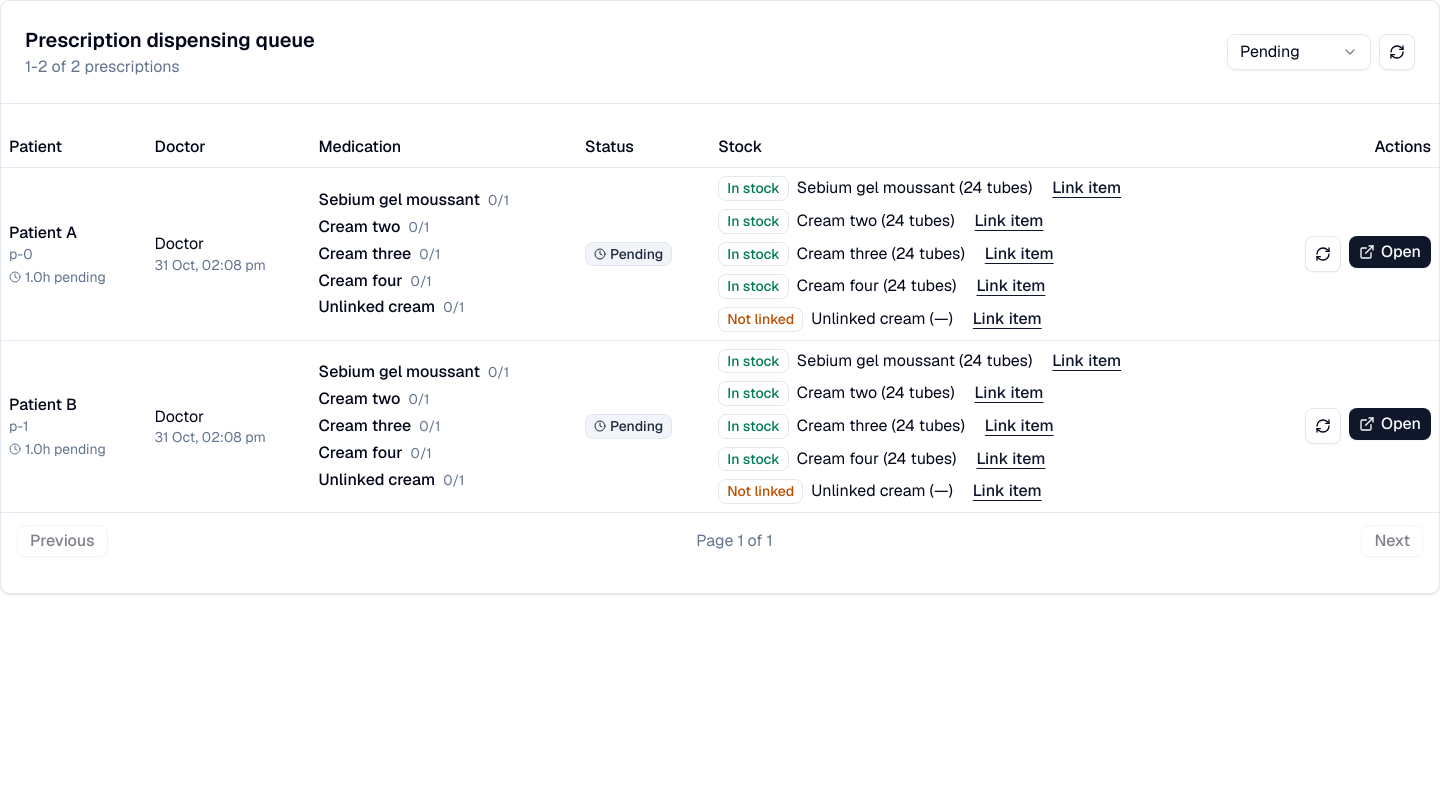
it: remembers an explicit choice and refreshes the same medicine for both patients
Click the button with aria-label "Link inventory for Unlinked cream". click: (1007, 319)
box: [969,308,1046,331]
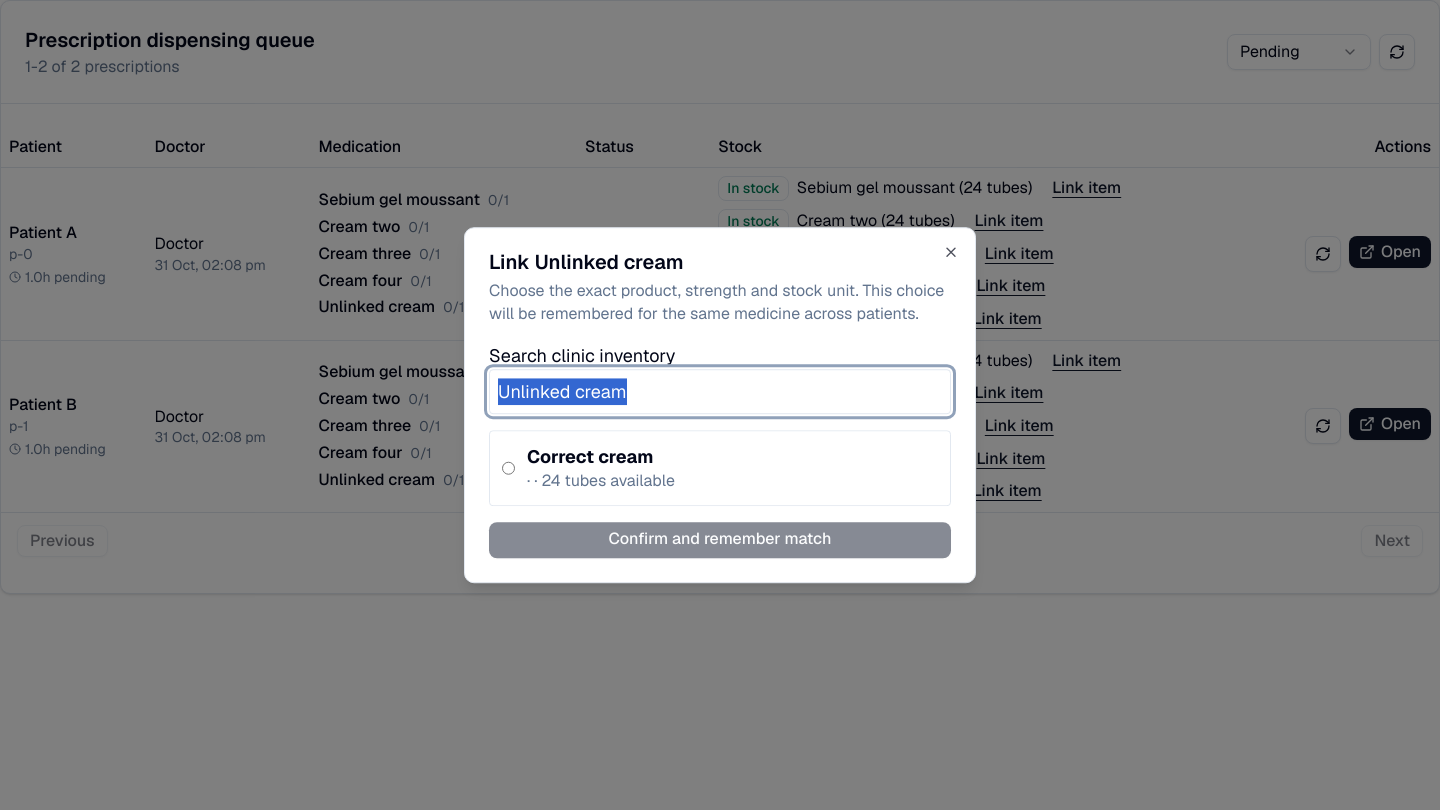
Click the radio button. click: (508, 468)
box: [502,443,515,493]
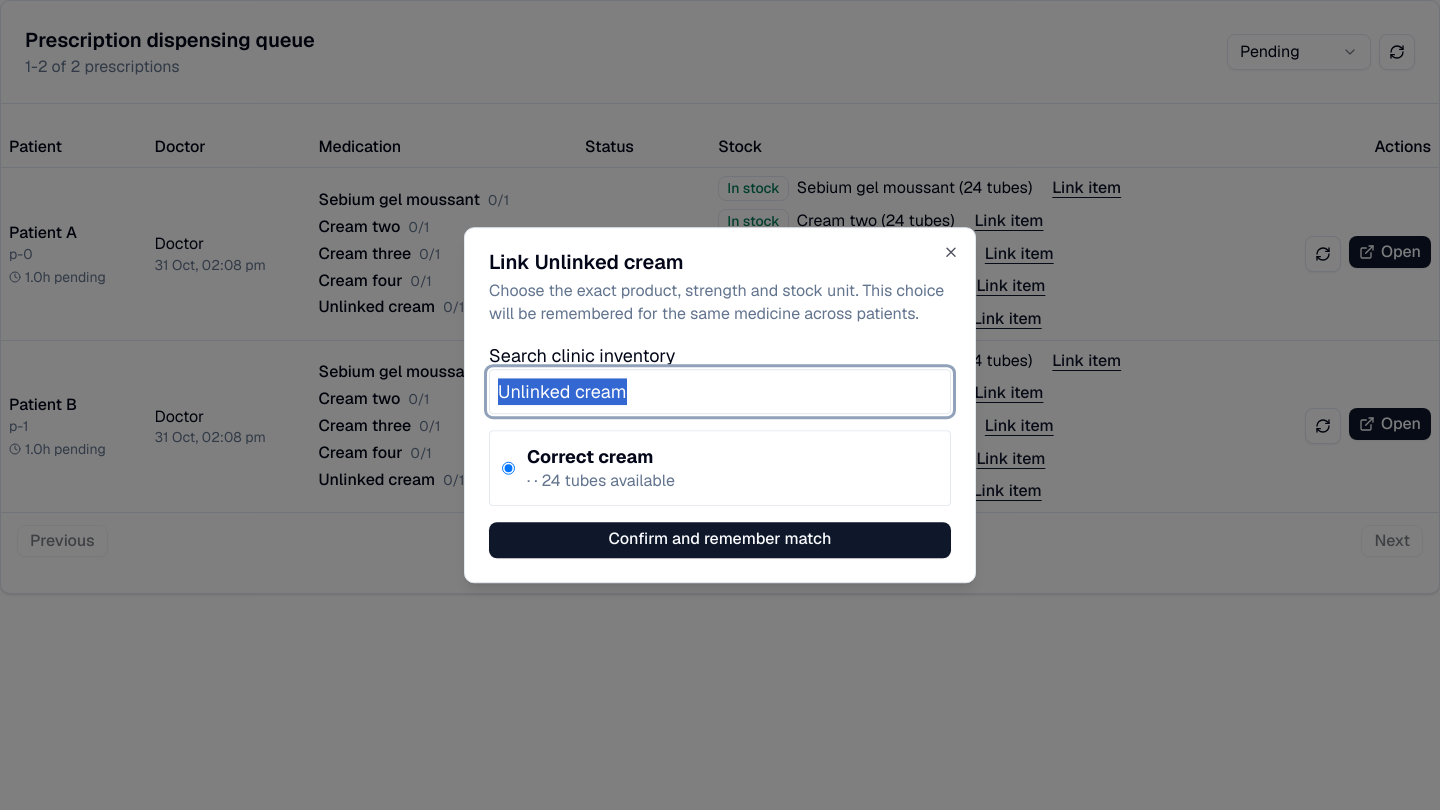
Click the button "Confirm and remember match". click: (720, 540)
box: [489,522,951,558]
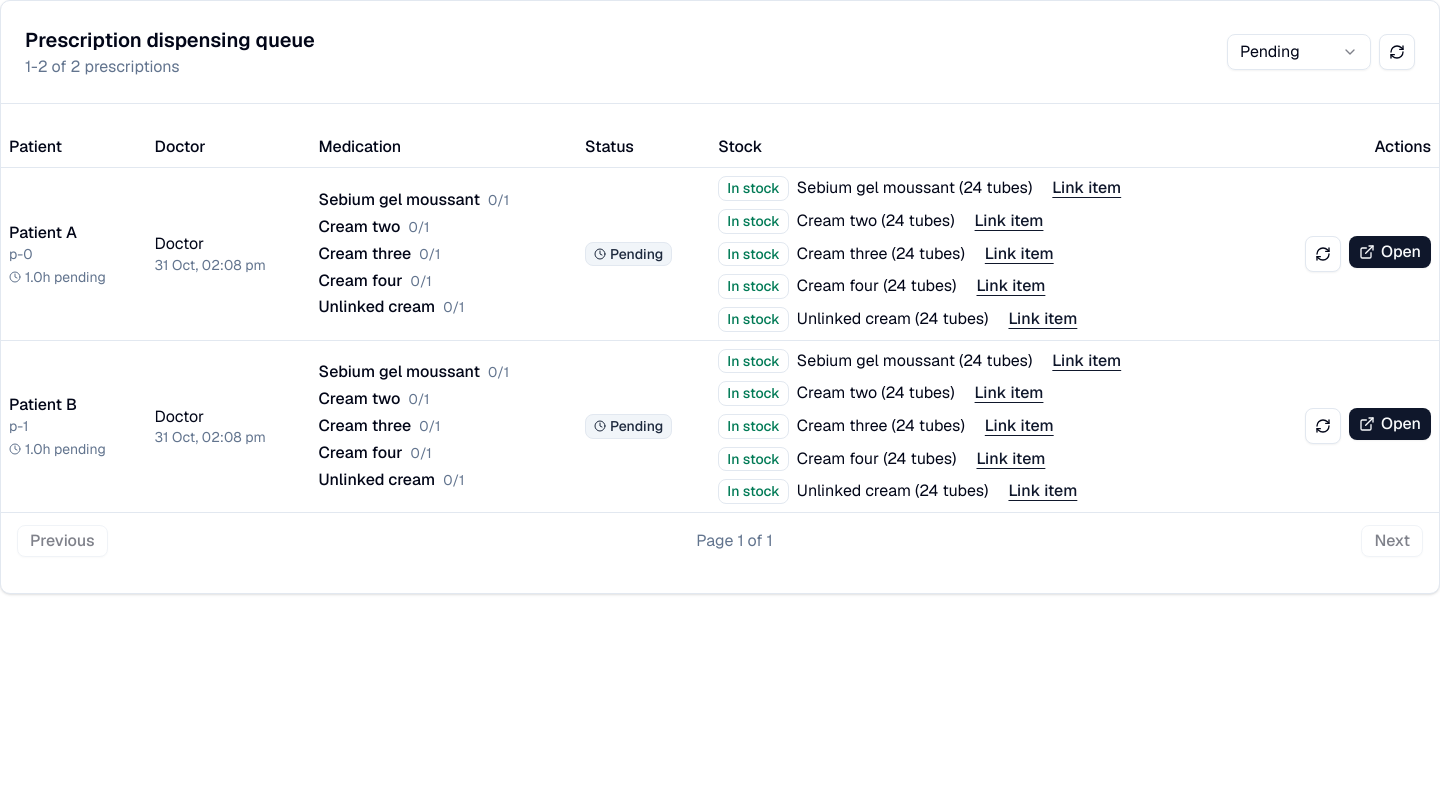
Expected: the text "Unlinked cream (24 tubes)" is shown 2 times, [797,308,988,331]; [797,480,988,503]
